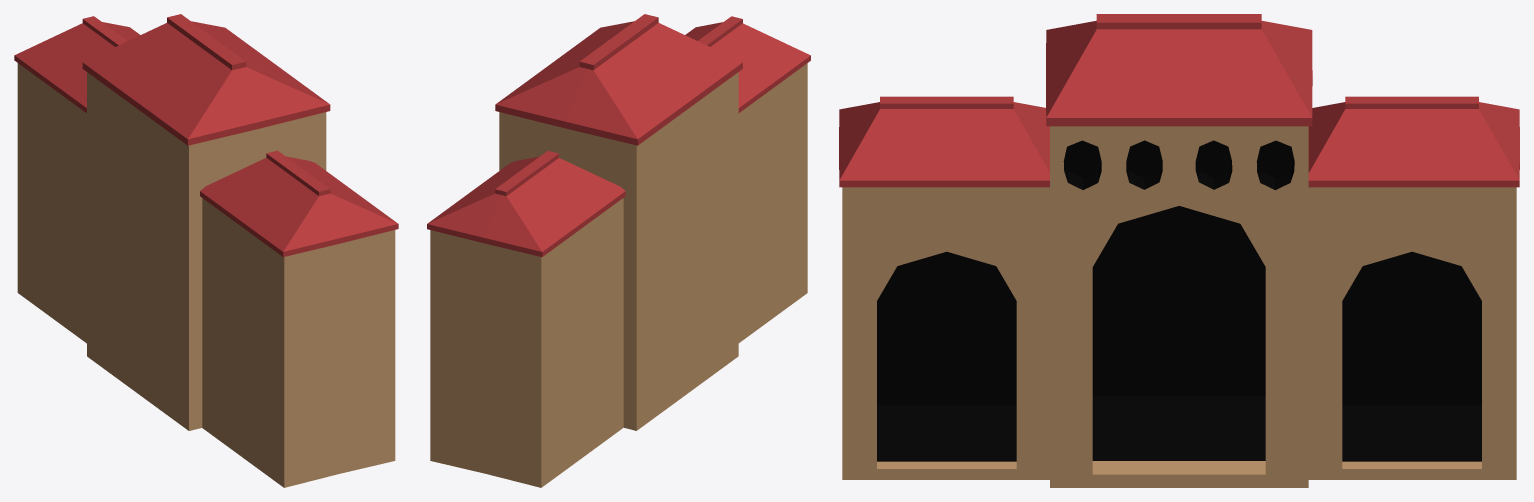
The model's file is Arco2.2.fbx.
3 renders of one model, left to right at view 1: azimuth 30°, elevation 25°; view 2: azimuth 150°, elevation 25°; view 3: azimuth 270°, elevation 25°, orthographic. The views are drawn at different scales.
Parts seen in each view (by area): view 1: Arco2.003, Arco3, Arco2.001; view 2: Arco2.001, Arco3, Arco2.003; view 3: Arco3, Arco2.001, Arco2.003.
Part boxes in pixels (box(x1,y1,x2,y2)): Arco2.003: box(200, 150, 398, 487); Arco3: box(82, 14, 330, 430); Arco2.001: box(14, 16, 140, 343); Arco2.001: box(427, 151, 625, 487); Arco3: box(495, 14, 742, 430); Arco2.003: box(685, 16, 810, 342); Arco3: box(1046, 14, 1312, 487); Arco2.001: box(1308, 96, 1519, 479); Arco2.003: box(839, 96, 1049, 479).
Bounding box in the file's own units: 1491 × 3374 × 4873.
